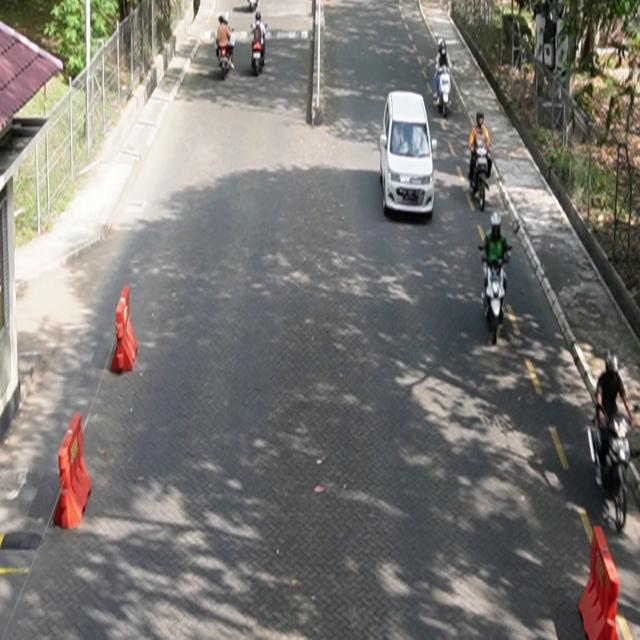car: (380, 91, 438, 219)
